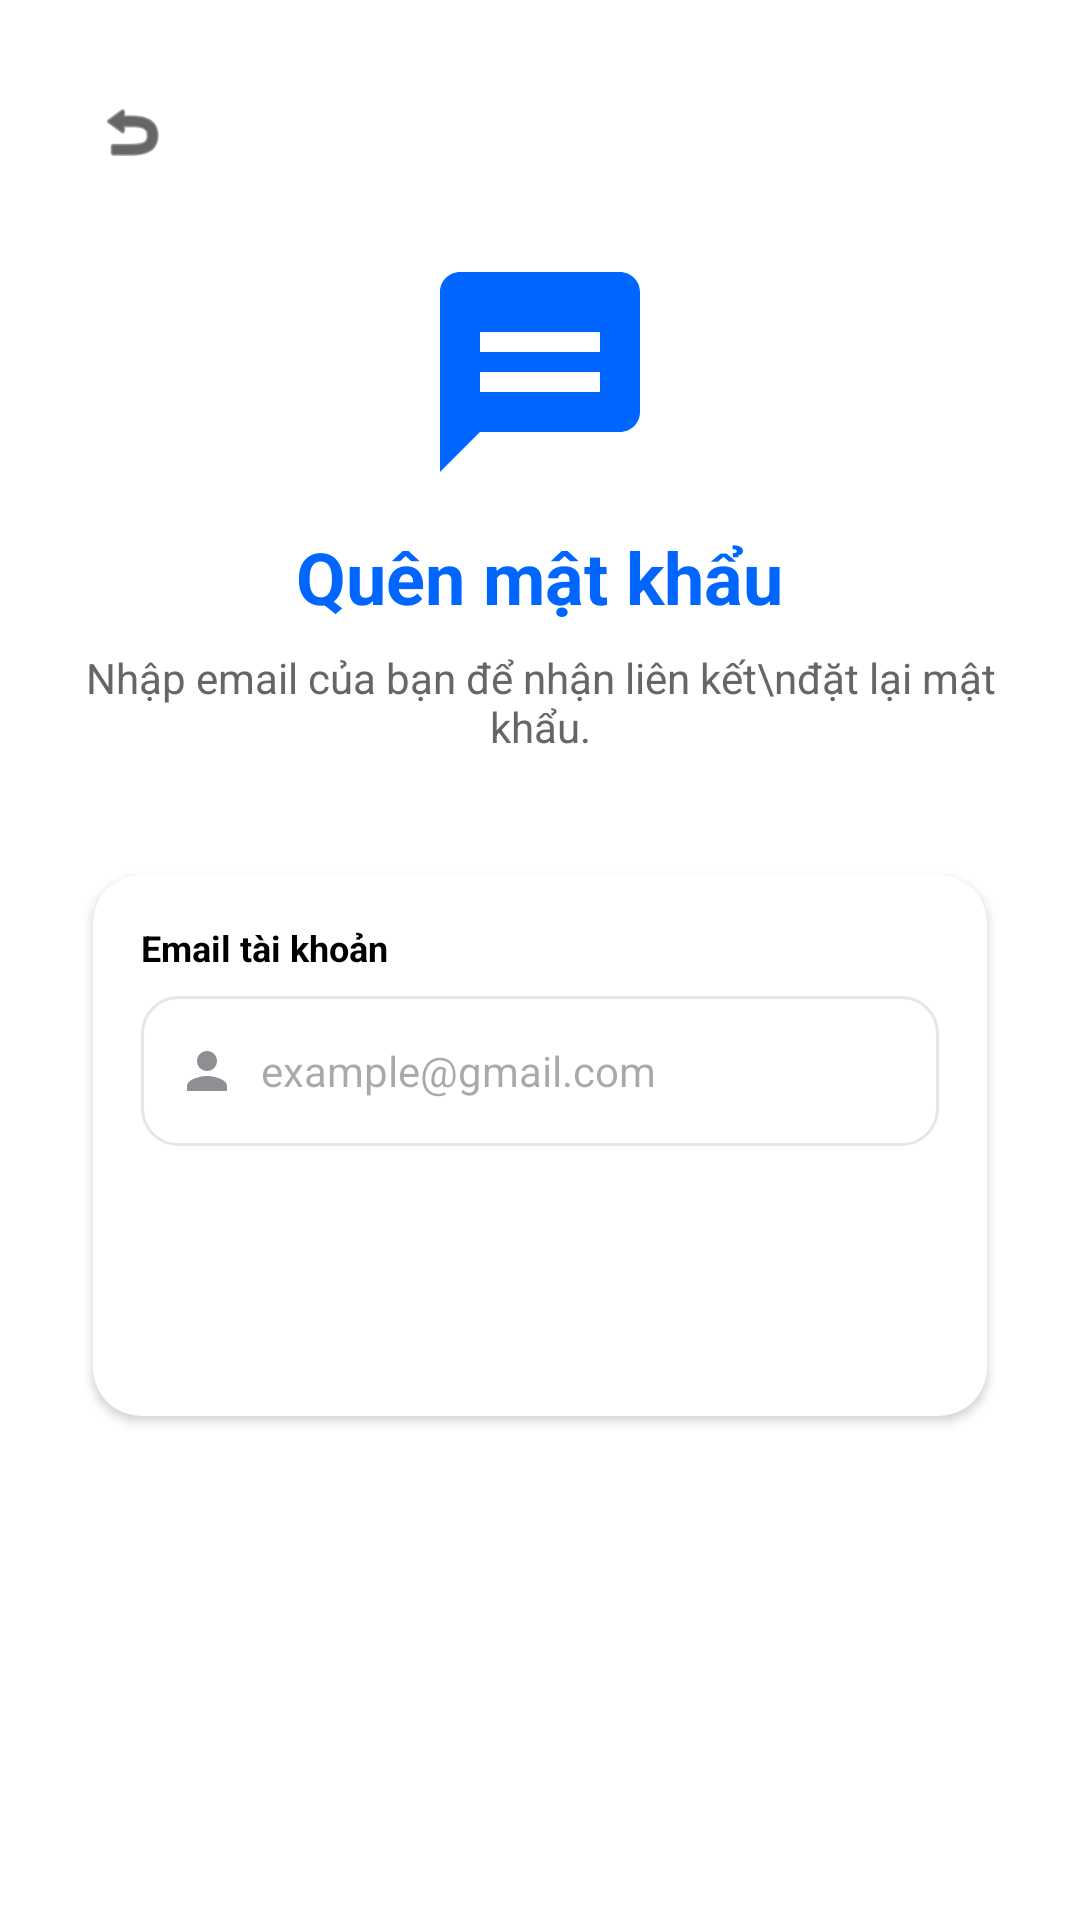

Icons on this 1080 × 1920 Android screen, each with the point to tap as (x,y):
person: (207,1071)
revert: (133,132)
